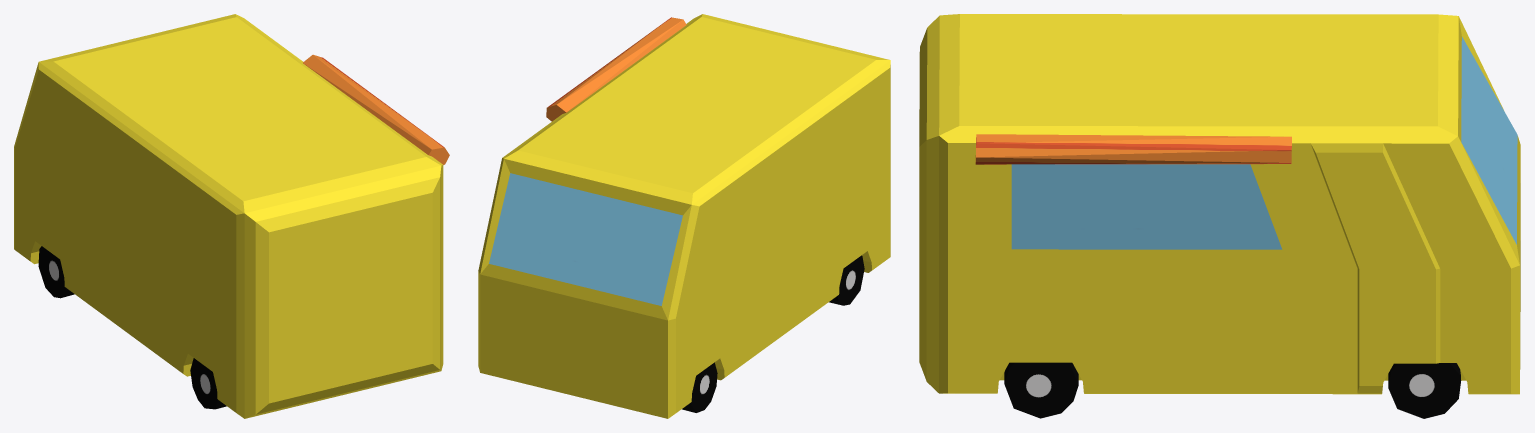
File: truck.glb
3 views of the same model, side by side, from view 1: azimuth 30°, elevation 25°; view 2: azimuth 150°, elevation 25°; view 3: azimuth 270°, elevation 25° (orthographic). The views are drawn at different scales.
Parts seen in each view (by area): view 1: Van, Umbrella, Wheels; view 2: Van, Windows, Umbrella, Wheels; view 3: Van, Windows, Umbrella, Wheels.
Part boxes in pixels (left/top/right/bottom): Van: left=14, top=14, right=443, bottom=418; Umbrella: left=303, top=54, right=449, bottom=164; Wheels: left=38, top=246, right=226, bottom=409; Van: left=478, top=14, right=890, bottom=418; Windows: left=489, top=173, right=682, bottom=305; Umbrella: left=546, top=17, right=686, bottom=121; Wheels: left=682, top=255, right=864, bottom=412; Van: left=919, top=14, right=1520, bottom=394; Windows: left=1011, top=37, right=1517, bottom=249; Umbrella: left=975, top=134, right=1291, bottom=164; Wheels: left=1004, top=362, right=1461, bottom=418.
Size of the model in its own units: 2.28 by 2.24 by 4.23.
Materials: 1 (1 with a texture image).
